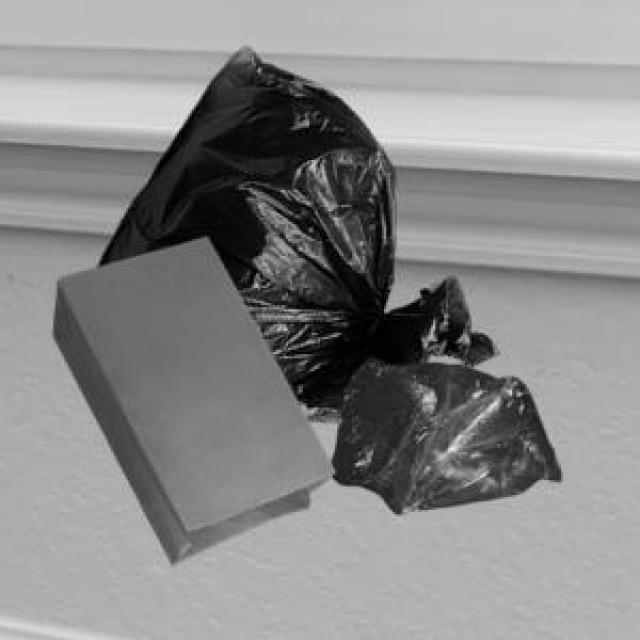miscellaneous trash: (94, 43, 495, 418)
paper: (49, 233, 331, 561)
